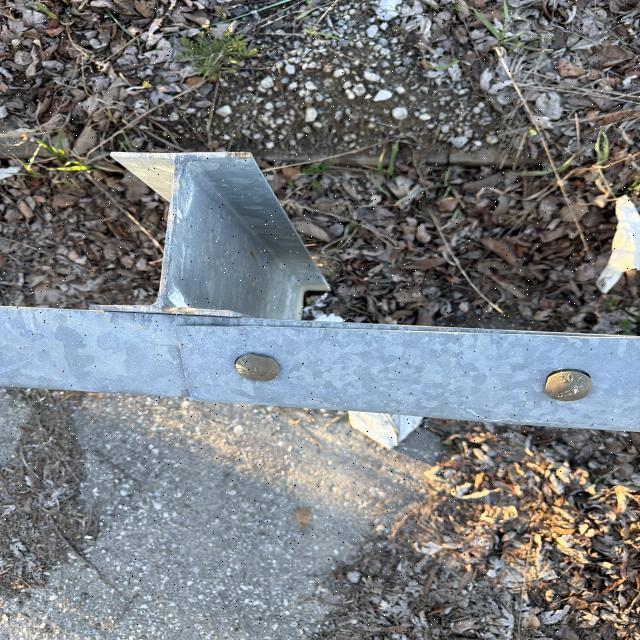Guard rail: (4, 181, 610, 415)
